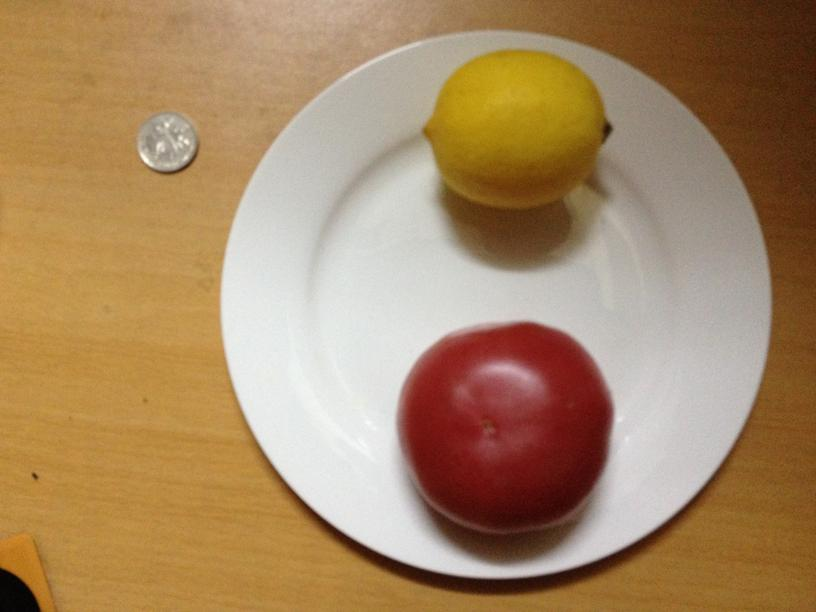coin: (135, 112, 197, 172)
lemon: (427, 49, 610, 209)
tomato: (398, 321, 612, 534)
